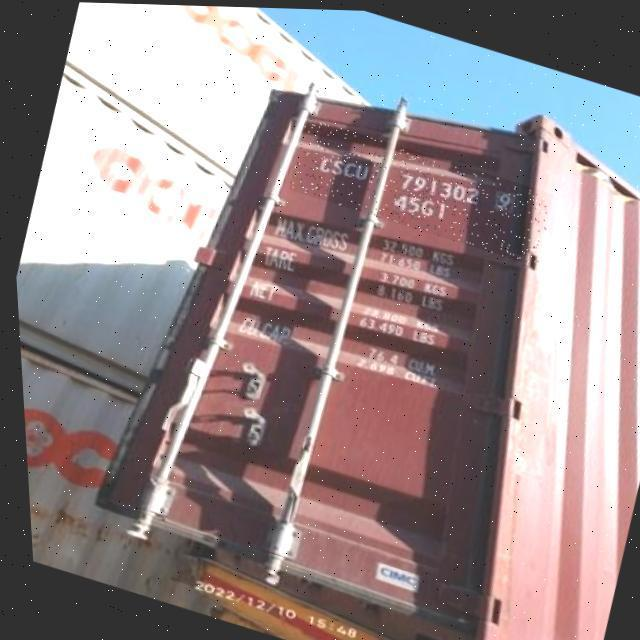container_number_h: (283, 114, 554, 264)
